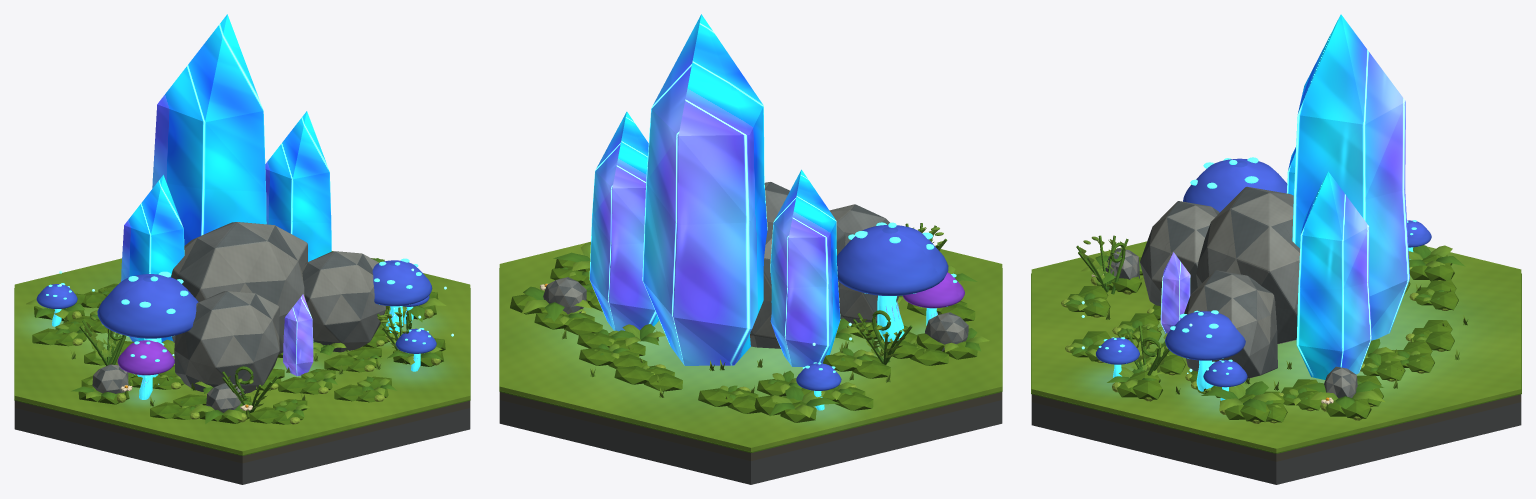
File: hex_mystical_grove.glb
3 views of the same model, side by side, from view 1: azimuth 30°, elevation 25°; view 2: azimuth 150°, elevation 25°; view 3: azimuth 270°, elevation 25° (orthographic). The views are drawn at different scales.
Parts seen in each view (by area): view 1: Standard hex meadow top.001, Faceted magical crystal.001, Standard hex stone foundation.001, Angular mossy forest boulder.001, Angular mossy forest boulder.002, Faceted magical crystal.003, Angular mossy forest boulder.003, Broad faceted mushroom cap.001, Faceted magical crystal.002, Standard hex earth layer.001, Broad faceted mushroom cap.002, Faceted magical crystal.005 (+5 smaller); view 2: Standard hex meadow top.001, Faceted magical crystal.001, Standard hex stone foundation.001, Faceted magical crystal.002, Faceted magical crystal.003, Broad faceted mushroom cap.001, Standard hex earth layer.001, Angular mossy forest boulder.001, Angular mossy forest boulder.002, Broad faceted mushroom cap.004, Angular mossy forest boulder.004, Angular mossy forest boulder.005 (+4 smaller); view 3: Standard hex meadow top.001, Faceted magical crystal.001, Faceted magical crystal.003, Standard hex stone foundation.001, Angular mossy forest boulder.001, Angular mossy forest boulder.003, Angular mossy forest boulder.002, Standard hex earth layer.001, Broad faceted mushroom cap.001, Broad faceted mushroom cap.002, Faceted magical crystal.005, Broad faceted mushroom cap.008 (+3 smaller).
Boxes of the visible parts, <box> form: Standard hex meadow top.001: <box>14,251,470,454</box>; Faceted magical crystal.001: <box>152,14,266,245</box>; Standard hex stone foundation.001: <box>14,408,470,484</box>; Angular mossy forest boulder.001: <box>171,222,307,354</box>; Angular mossy forest boulder.002: <box>174,291,279,393</box>; Faceted magical crystal.003: <box>265,111,331,261</box>; Angular mossy forest boulder.003: <box>302,251,385,352</box>; Broad faceted mushroom cap.001: <box>97,274,198,338</box>; Faceted magical crystal.002: <box>121,175,184,342</box>; Standard hex earth layer.001: <box>14,400,470,463</box>; Broad faceted mushroom cap.002: <box>372,260,432,306</box>; Faceted magical crystal.005: <box>283,294,313,376</box>; Standard hex meadow top.001: <box>499,241,1002,451</box>; Faceted magical crystal.001: <box>642,14,767,365</box>; Standard hex stone foundation.001: <box>499,400,1002,484</box>; Faceted magical crystal.002: <box>770,169,840,366</box>; Faceted magical crystal.003: <box>589,111,658,331</box>; Broad faceted mushroom cap.001: <box>837,225,948,295</box>; Standard hex earth layer.001: <box>499,392,1002,460</box>; Angular mossy forest boulder.001: <box>750,182,845,348</box>; Angular mossy forest boulder.002: <box>829,204,899,323</box>; Broad faceted mushroom cap.004: <box>903,272,964,308</box>; Angular mossy forest boulder.004: <box>925,312,968,351</box>; Angular mossy forest boulder.005: <box>543,277,586,314</box>; Standard hex meadow top.001: <box>1031,241,1521,452</box>; Faceted magical crystal.001: <box>1292,14,1409,340</box>; Faceted magical crystal.003: <box>1296,171,1371,379</box>; Standard hex stone foundation.001: <box>1031,402,1521,484</box>; Angular mossy forest boulder.001: <box>1196,186,1299,344</box>; Angular mossy forest boulder.003: <box>1184,270,1277,378</box>; Angular mossy forest boulder.002: <box>1140,201,1219,306</box>; Standard hex earth layer.001: <box>1031,394,1521,461</box>; Broad faceted mushroom cap.001: <box>1183,158,1287,212</box>; Broad faceted mushroom cap.002: <box>1165,311,1245,360</box>; Faceted magical crystal.005: <box>1160,252,1190,334</box>; Broad faceted mushroom cap.008: <box>1203,360,1247,387</box>.
Bounding box in the file's own units: 5.11 × 3.57 × 4.42.
37 materials, 27 textured.
